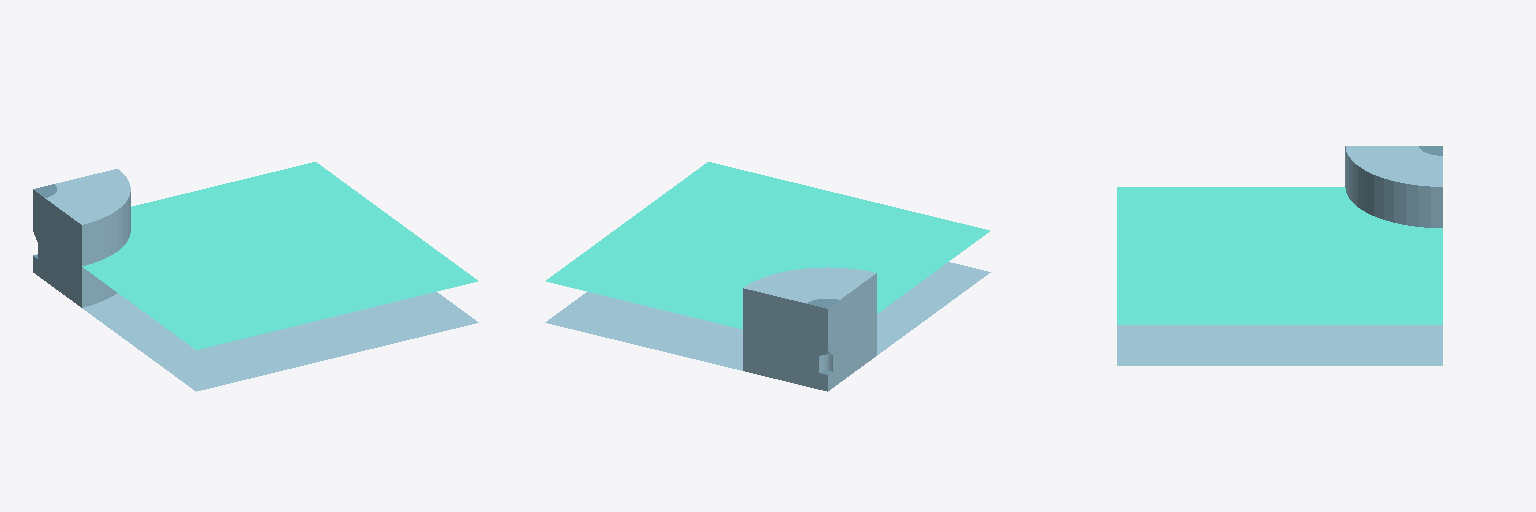
The model's file is fountainCornerInner.obj.
The picture shows the model from 3 angles: view 1: azimuth 30°, elevation 25°; view 2: azimuth 150°, elevation 25°; view 3: azimuth 270°, elevation 25°; orthographic projection.
Parts seen in each view (by area): view 1: fountainCornerInner; view 2: fountainCornerInner; view 3: fountainCornerInner.
Boxes of the visible parts, <box> form: fountainCornerInner: <box>33,162,478,391</box>; fountainCornerInner: <box>545,162,990,391</box>; fountainCornerInner: <box>1117,146,1442,365</box>.
Bounding box in the file's own units: 1 × 0.28 × 1.